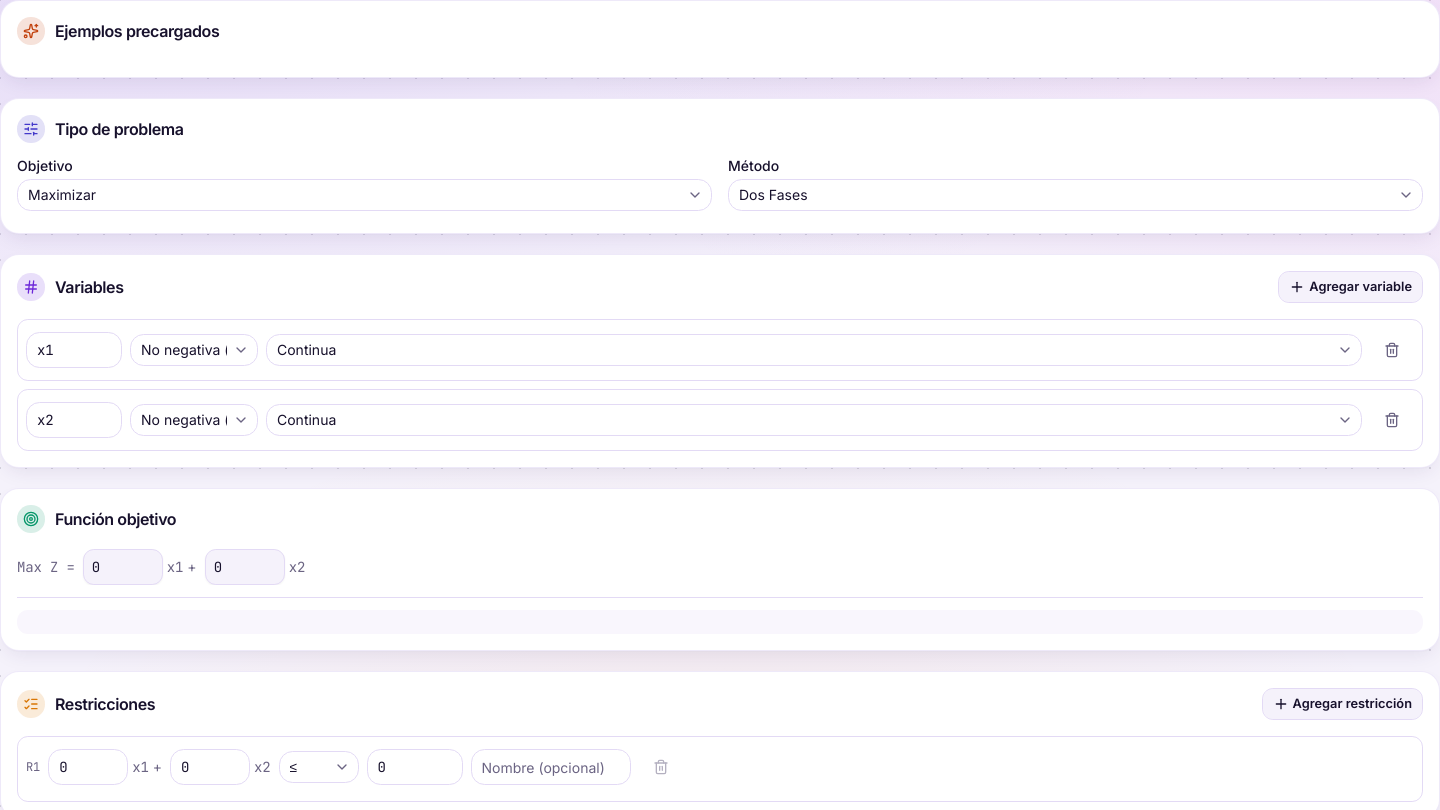
Test: ProblemForm dynamic rows › adding a constraint adds a row with one coefficient per current variable
Click the button "Agregar restricción" at (1342, 704), box [1262,688,1423,720]
(page scrolled)
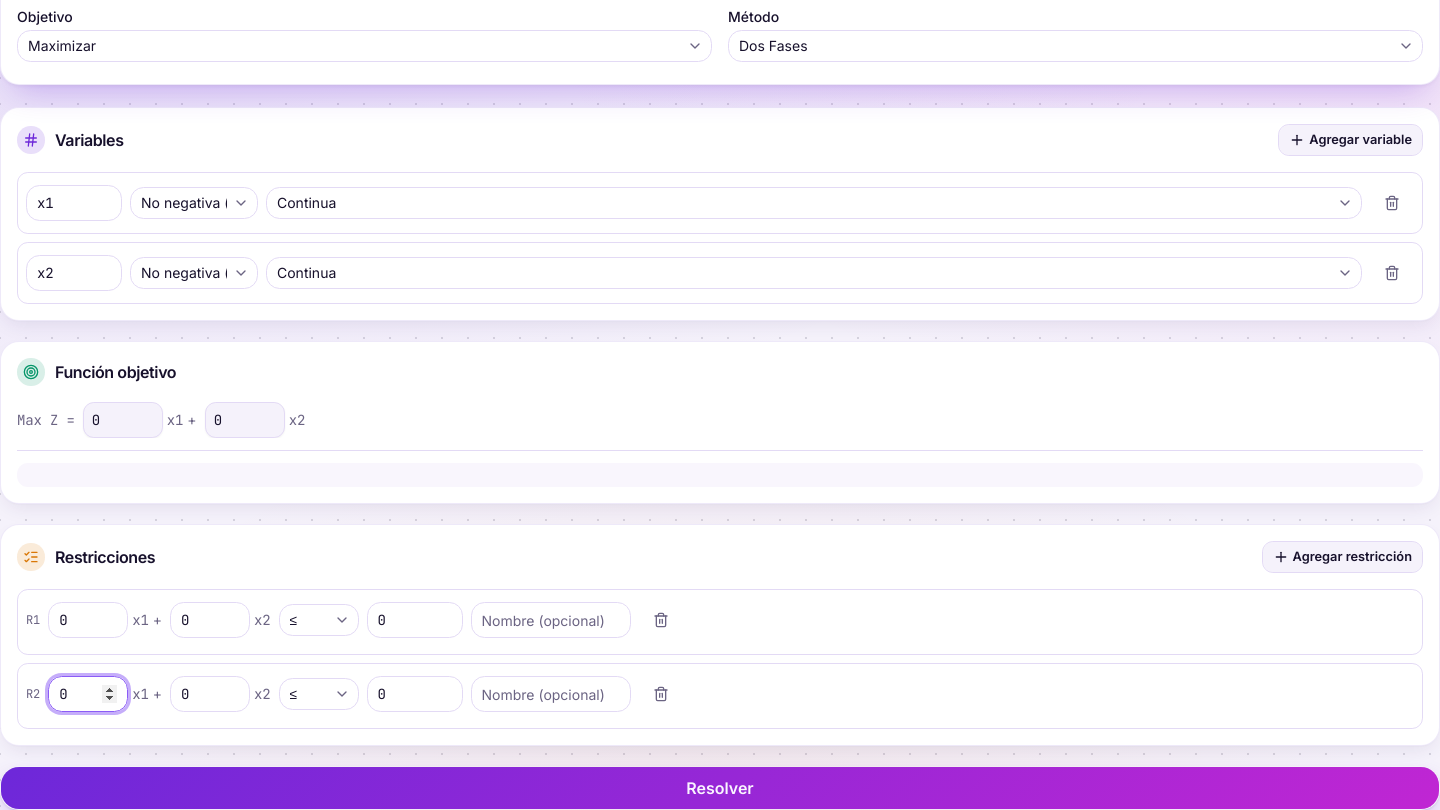
Expected: the number field named "Coeficiente de x1 en la restricción 2" is shown, [48,676,128,712]
Expected: the number field named "Coeficiente de x2 en la restricción 2" is shown, [170,676,250,712]
